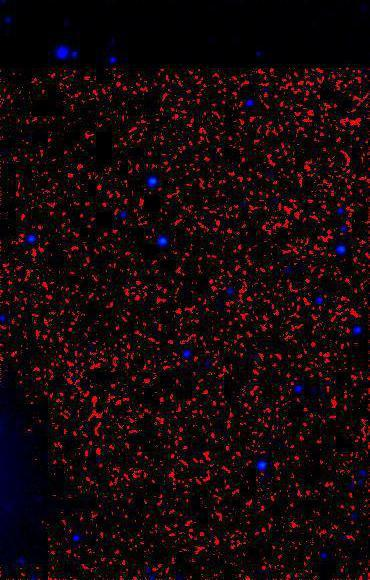star: (243, 457, 273, 487)
